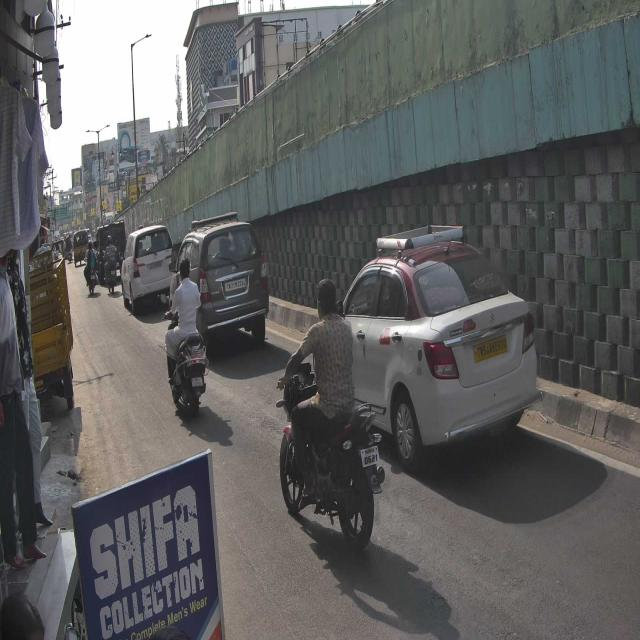single_rider: (275, 278, 385, 553), (160, 258, 212, 418)
